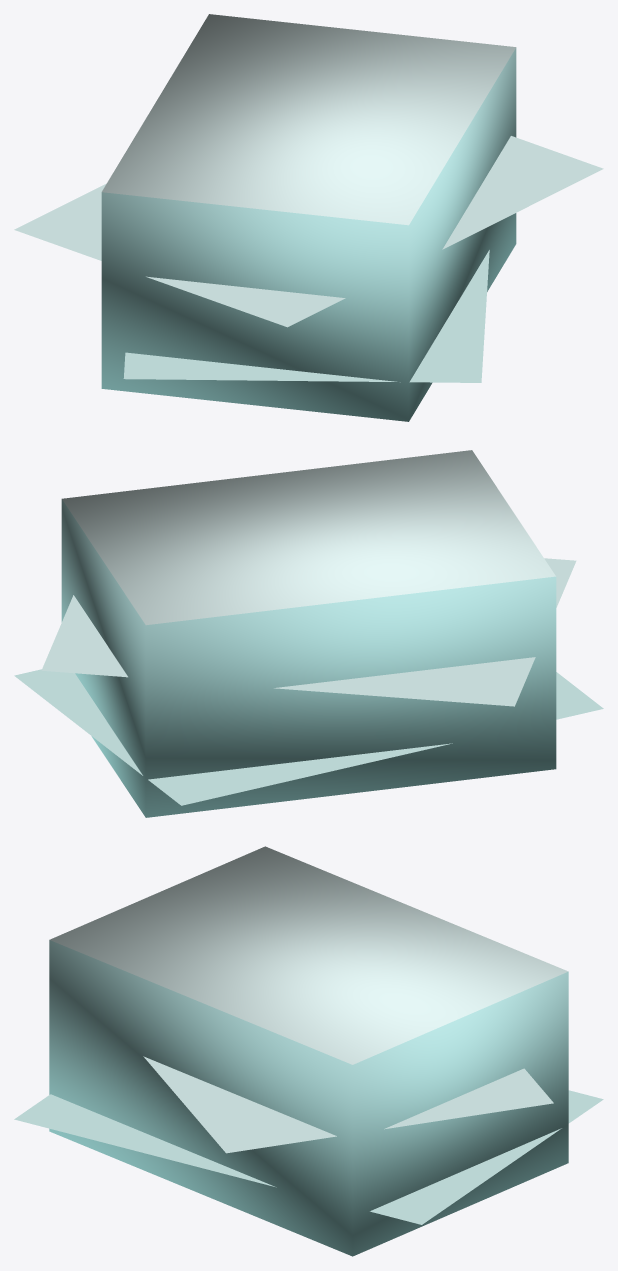
File: Paper.fbx
3 renders of one model, top to bottom at view 1: azimuth 30°, elevation 25°; view 2: azimuth 150°, elevation 25°; view 3: azimuth 270°, elevation 25°, orthographic. The views are drawn at different scales.
Visible parts, largest first — view 1: Paper; view 2: Paper; view 3: Paper.
Part boxes in pixels (box(x1,y1,x2,y2)): Paper: box(14, 14, 603, 421); Paper: box(14, 450, 603, 817); Paper: box(14, 846, 603, 1256).
Bounding box in the file's own units: 63.59 × 23.66 × 66.02.
